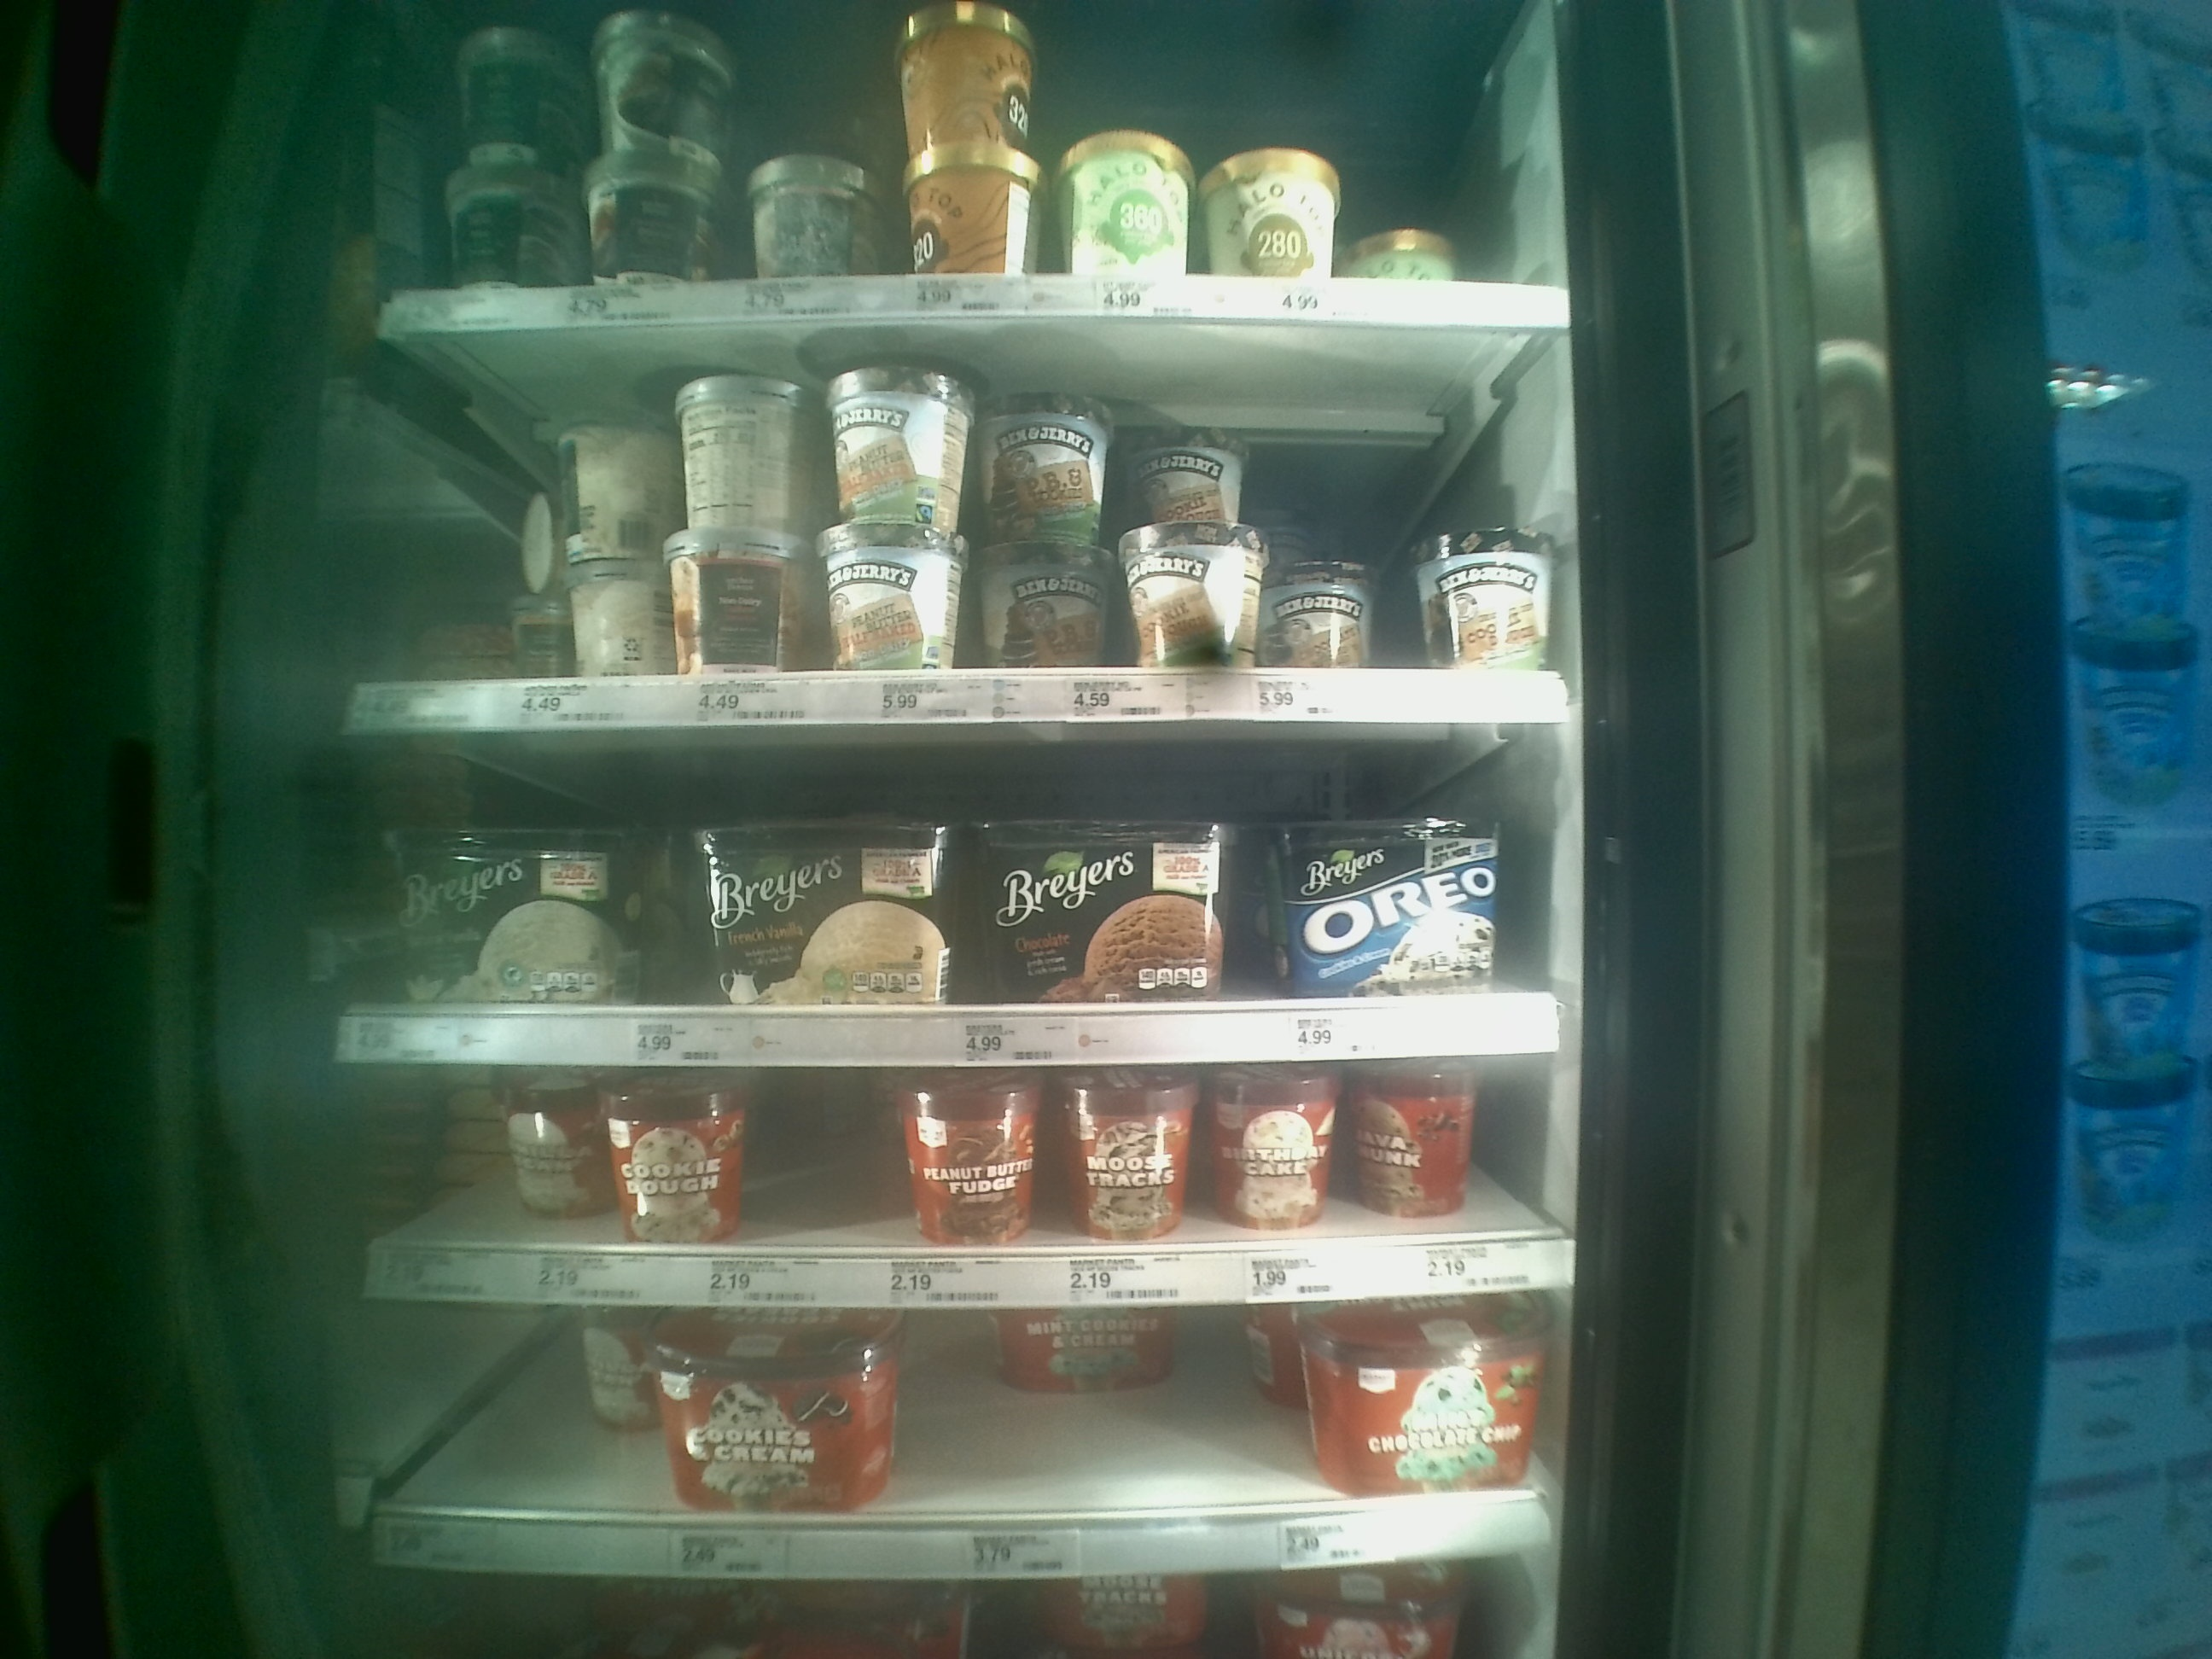ice-cream-shelf: (341, 329, 1562, 732), (343, 735, 1559, 1063), (381, 1321, 1524, 1579), (357, 1065, 1573, 1307)
